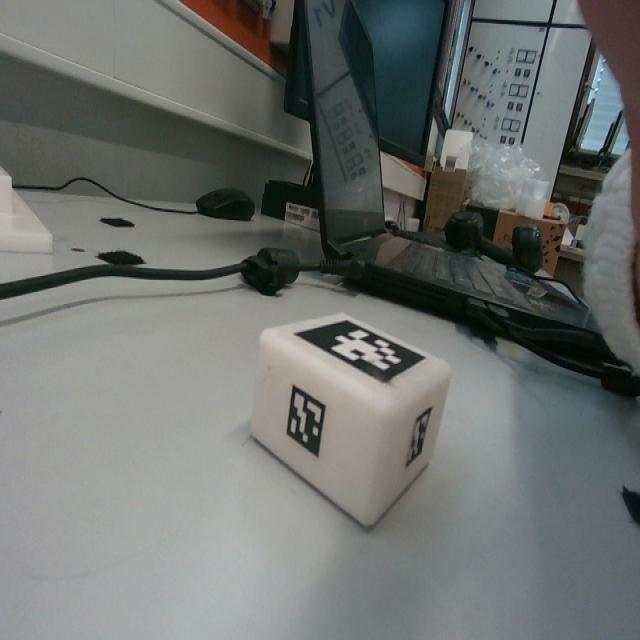Cube: (250, 308, 451, 532)
